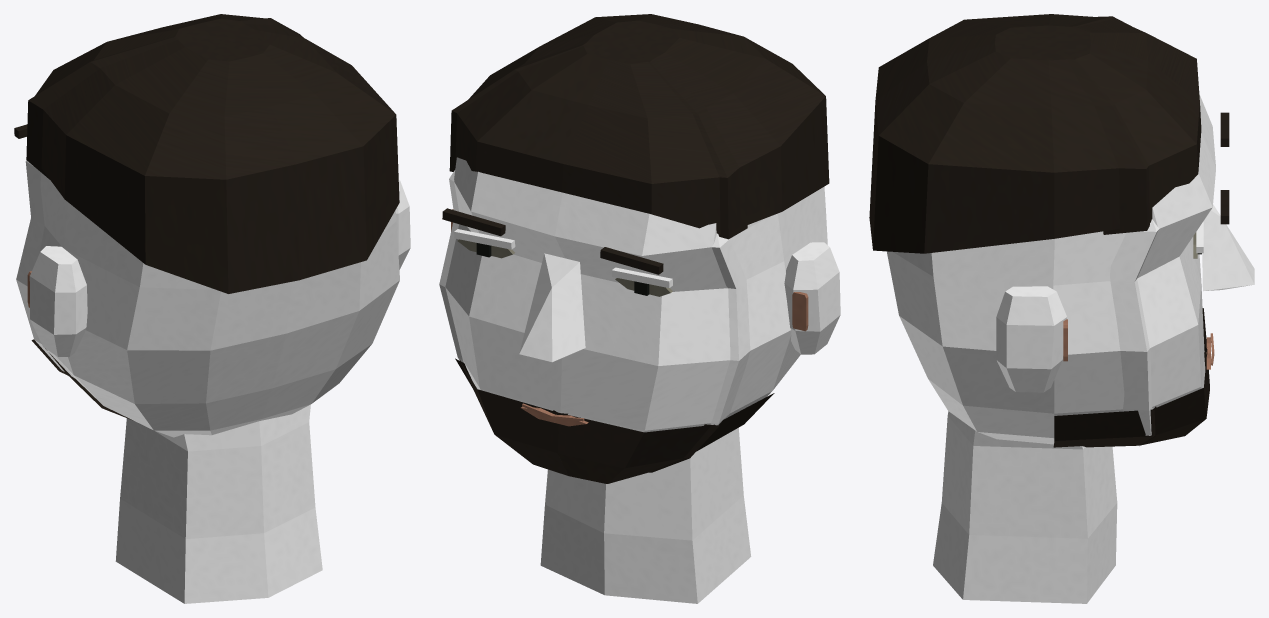
3 renders of one model, left to right at view 1: azimuth 30°, elevation 25°; view 2: azimuth 150°, elevation 25°; view 3: azimuth 270°, elevation 25°, orthographic. The views are drawn at different scales.
Parts seen in each view (by area): view 1: face_11_head_LOD0_RAID_skin.001, face_11_head_LOD0_RAID_hair3.001, face_11_head_LOD1_RAID_hair3.001, face_11_head_LOD1_RAID_skin.001; view 2: face_11_head_LOD0_RAID_skin.001, face_11_head_LOD0_RAID_hair3.001, face_11_head_LOD1_RAID_hair3.001, face_11_head_LOD1_RAID_skin.001, face_11_head_LOD0_RAID_lip.001, face_11_head_LOD0_RAID_eye.001; view 3: face_11_head_LOD0_RAID_skin.001, face_11_head_LOD0_RAID_hair3.001, face_11_head_LOD1_RAID_hair3.001, face_11_head_LOD1_RAID_skin.001.
Boxes of the visible parts, x1,y1,x2,y2 form: face_11_head_LOD0_RAID_skin.001: [29, 173, 410, 603]; face_11_head_LOD0_RAID_hair3.001: [14, 14, 399, 420]; face_11_head_LOD1_RAID_hair3.001: [26, 18, 303, 375]; face_11_head_LOD1_RAID_skin.001: [16, 160, 74, 378]; face_11_head_LOD0_RAID_skin.001: [445, 157, 840, 603]; face_11_head_LOD0_RAID_hair3.001: [442, 14, 829, 483]; face_11_head_LOD1_RAID_hair3.001: [449, 22, 747, 472]; face_11_head_LOD1_RAID_skin.001: [439, 170, 750, 425]; face_11_head_LOD0_RAID_lip.001: [451, 209, 808, 426]; face_11_head_LOD0_RAID_eye.001: [457, 239, 672, 296]; face_11_head_LOD0_RAID_skin.001: [886, 94, 1254, 603]; face_11_head_LOD0_RAID_hair3.001: [869, 14, 1229, 447]; face_11_head_LOD1_RAID_hair3.001: [995, 16, 1207, 444]; face_11_head_LOD1_RAID_skin.001: [1110, 219, 1159, 435].
Bounding box in the file's own units: 0.2884 × 0.394 × 0.261.
5 materials, 5 textured.
